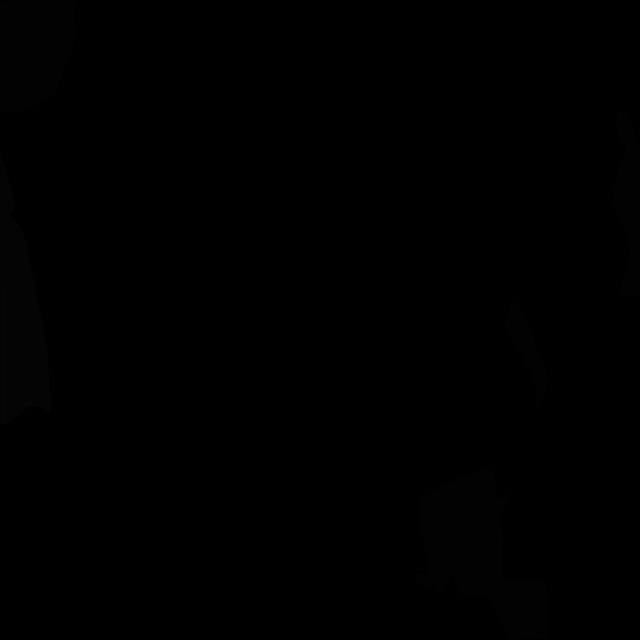cardboard: (414, 469, 549, 639), (0, 0, 76, 113), (613, 111, 640, 298), (505, 295, 548, 412)
soft_plastic: (0, 150, 51, 426)
